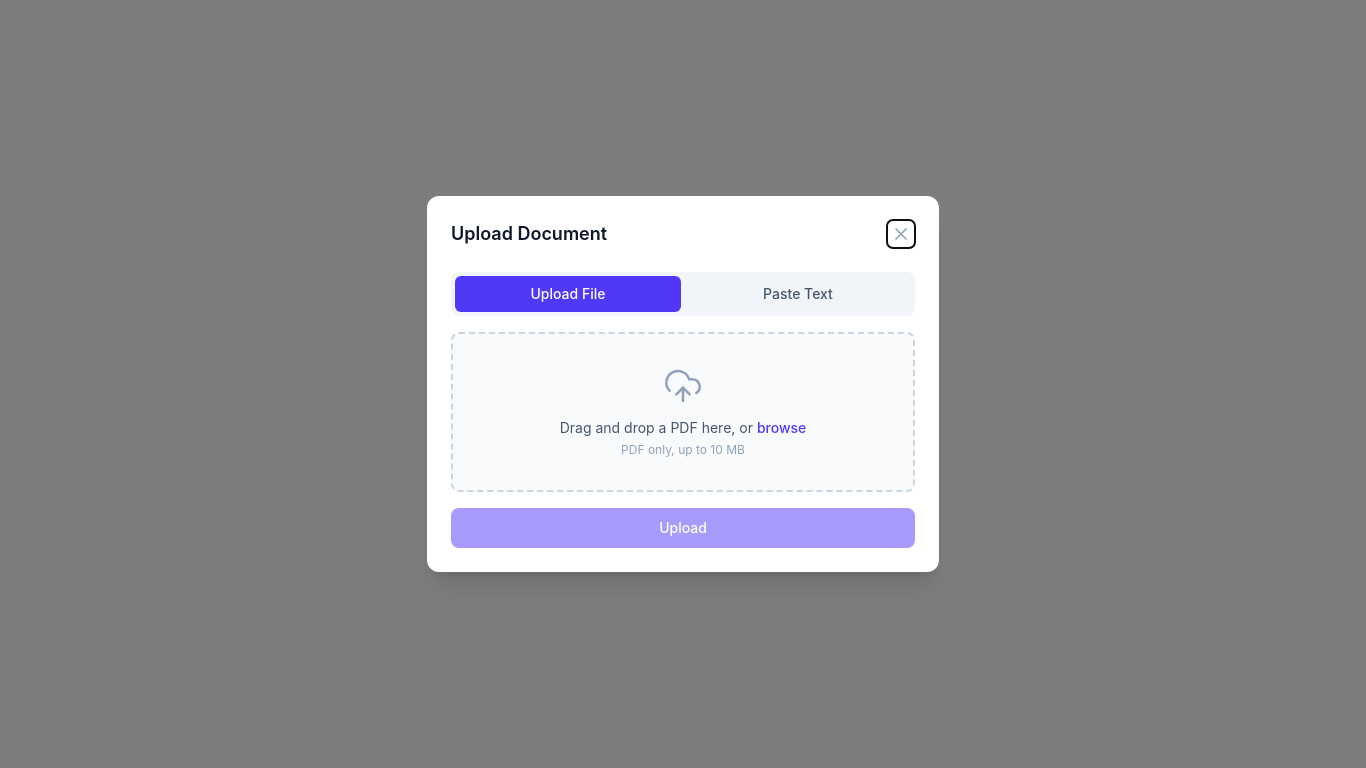
UploadDialog › character counter updates as user types
The image size is (1366, 768).
// Switch to text tab
Click the button "Paste Text".
click(798, 294)  # box left=685, top=276, right=911, bottom=312
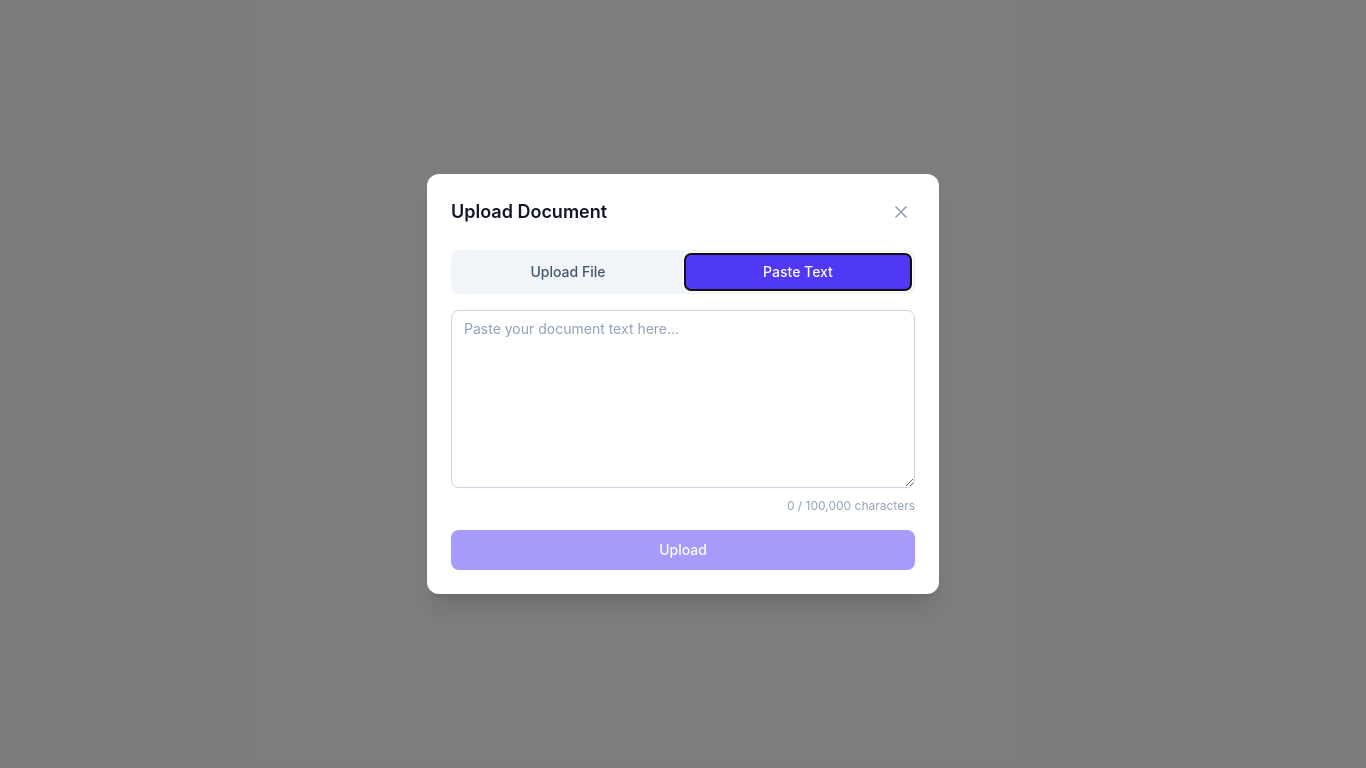
Type "Hello" into the text box with placeholder "Paste your document text here...".
click(683, 399); type("Hello")  # box left=451, top=310, right=915, bottom=488
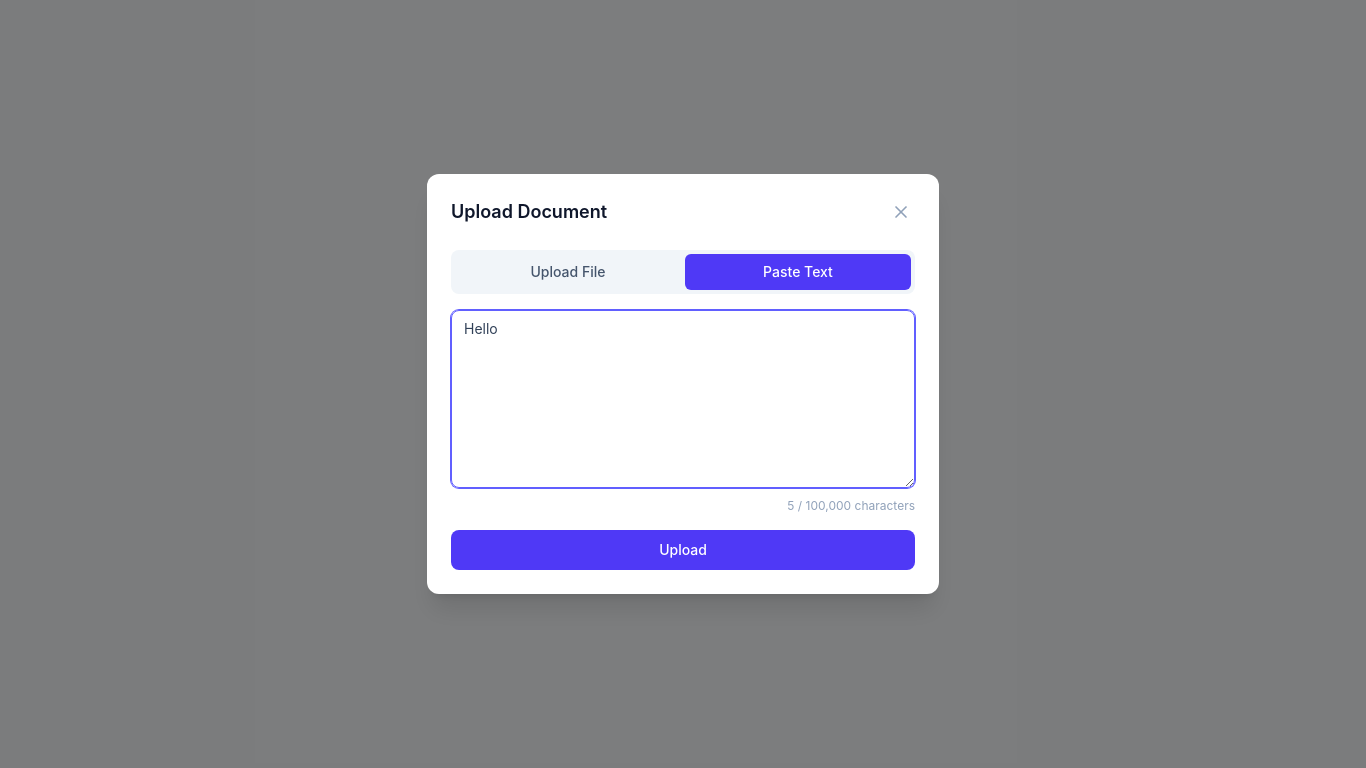
expect the text "5 / 100,000 characters" is shown: met, box left=787, top=498, right=915, bottom=513
